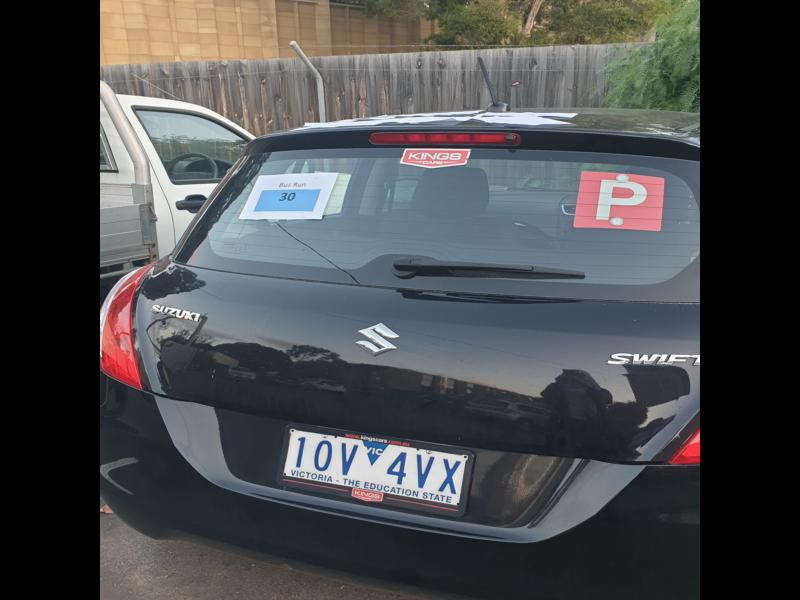BusRun: (254, 189, 321, 212)
PlateNo: (280, 427, 469, 507)
